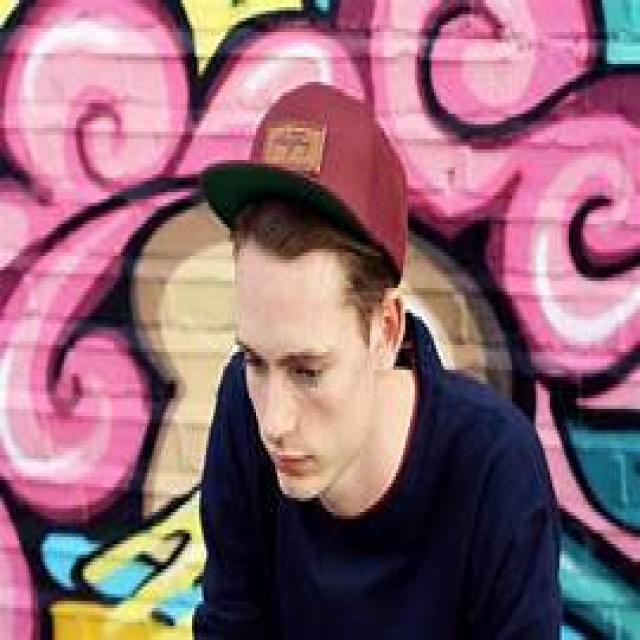3_gorra: (199, 80, 410, 282)
